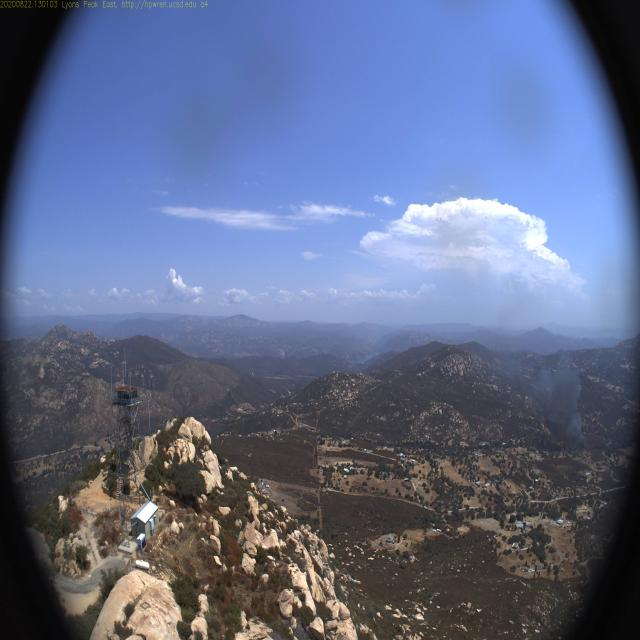smoke: (532, 364, 595, 459), (490, 328, 531, 406)
